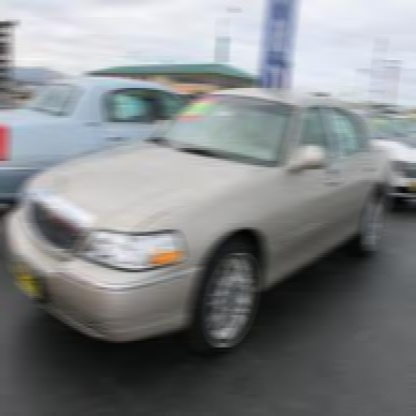Vehicle: (1, 83, 404, 368)
